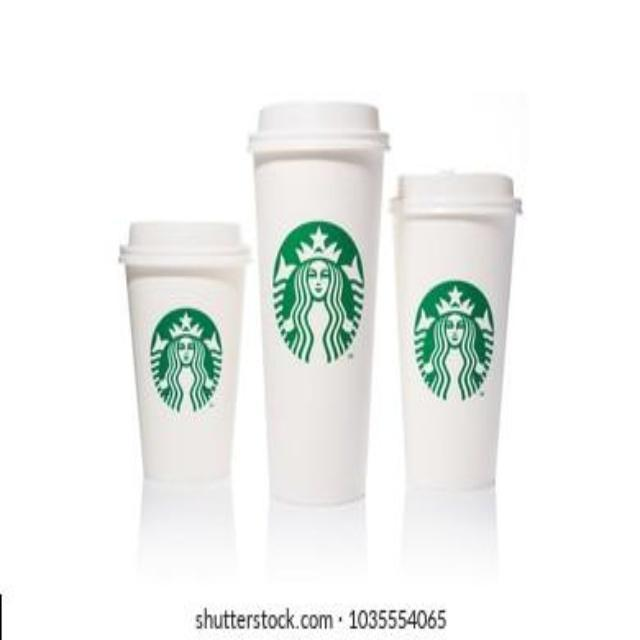paper_cup: (244, 100, 390, 508), (387, 168, 523, 496), (116, 216, 255, 489)
